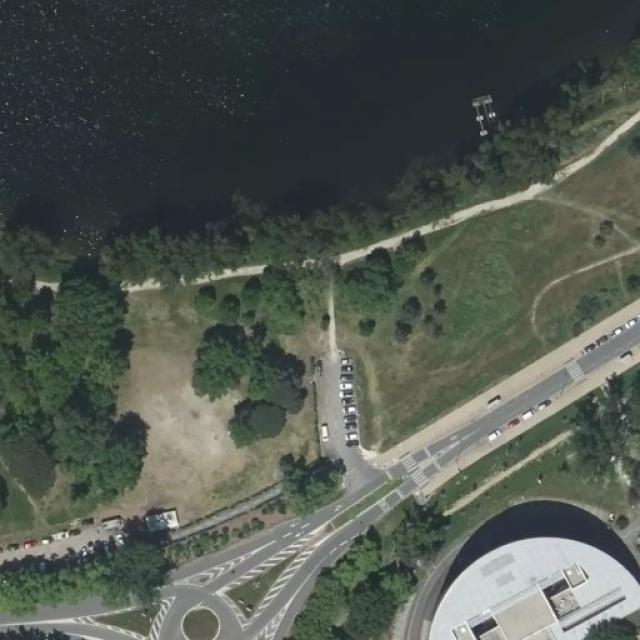immeuble: (409, 530, 640, 640)
